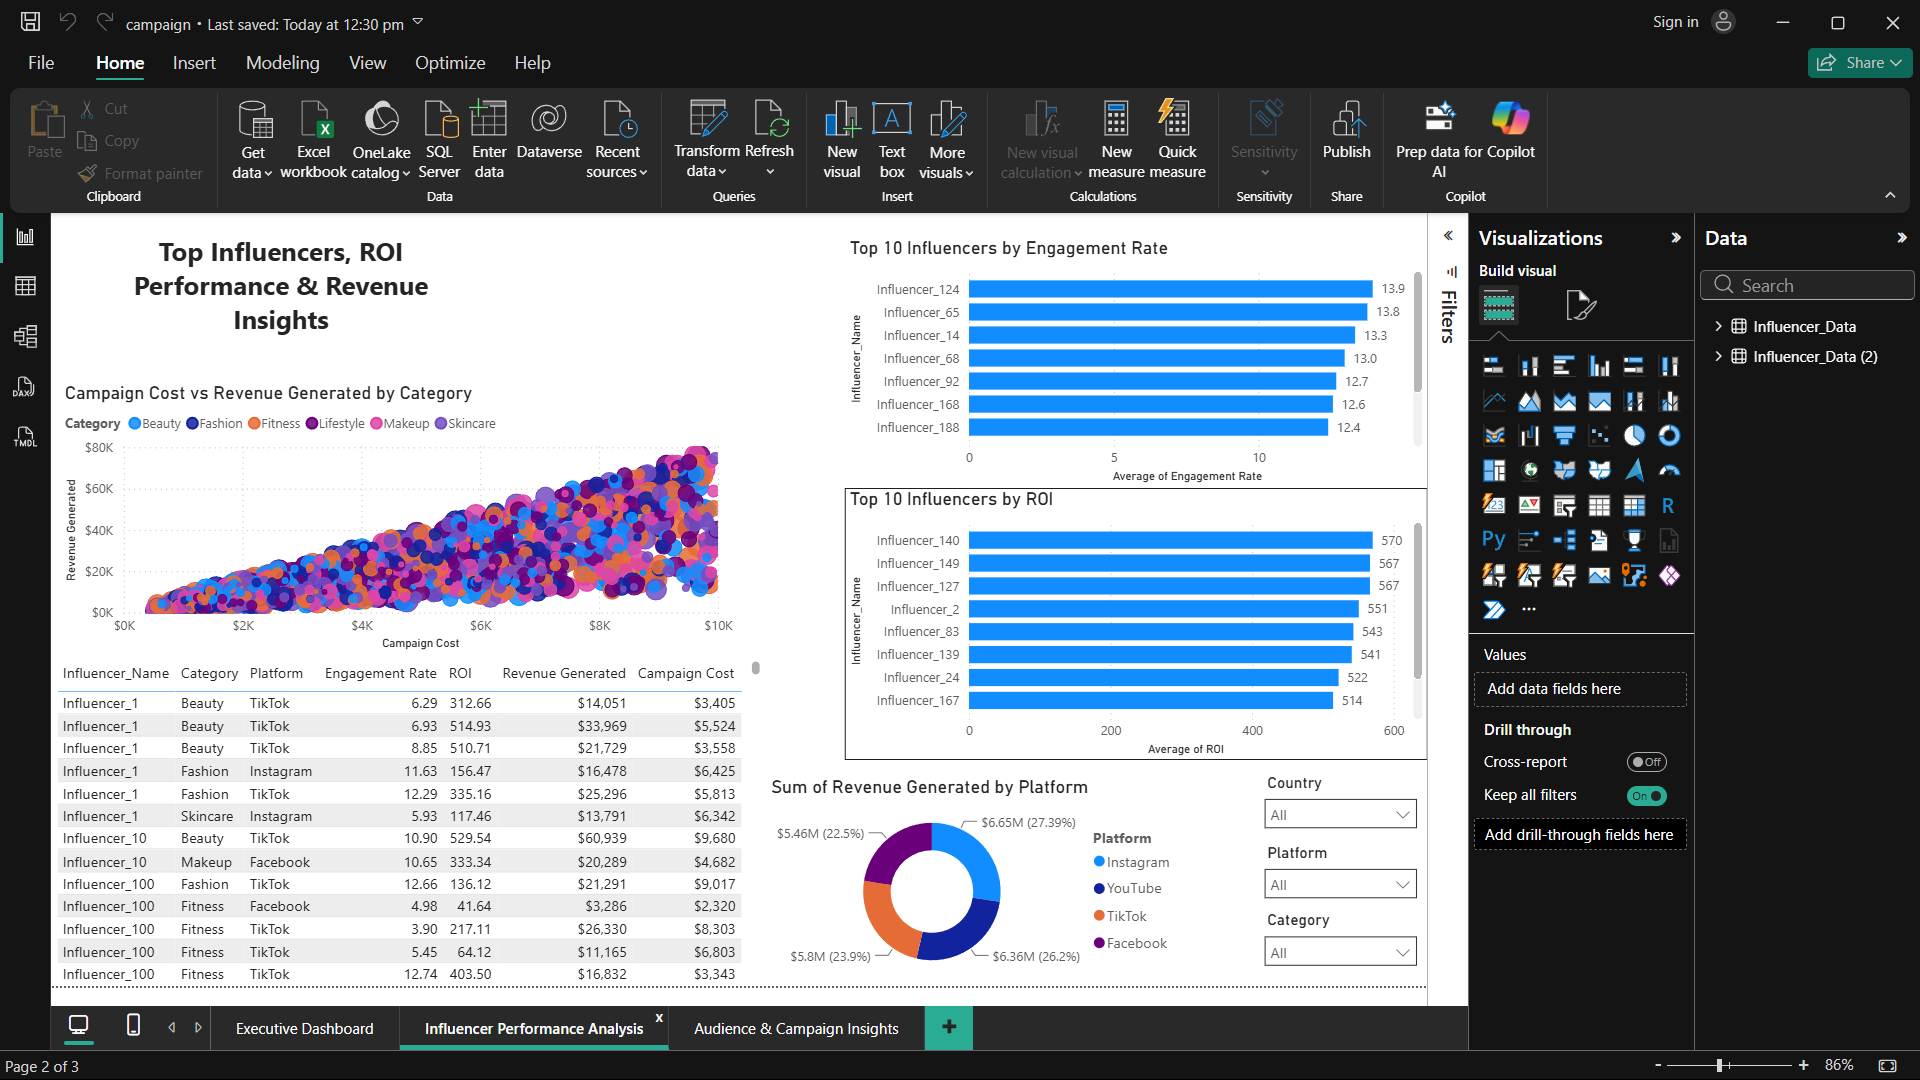

The dashboard page shown, as its layout file describes it:
{"tool":"powerbi","page":{"name":"Influencer Performance Analysis","canvas":[1280,720],"ordinal":1},"visuals":[{"type":"scatterChart","title":"Campaign Cost vs Revenue Generated by Category","fields":{"X":["Influencer_Data.Campaign Cost"],"Y":["Influencer_Data.Revenue Generated"],"Size":["Avg(Influencer_Data.Followers)"],"Series":["Influencer_Data.Category"]},"box":[8.1,157,631.4,254.7],"z":0},{"type":"clusteredBarChart","title":"Top 10 Influencers by ROI","fields":{"Category":["Influencer_Data.Influencer_Name"],"Y":["Avg(Influencer_Data.ROI)"]},"box":[738,255.5,542.3,254.2],"z":1000},{"type":"clusteredBarChart","title":"Top 10 Influencers by Engagement Rate","fields":{"Category":["Influencer_Data.Influencer_Name"],"Y":["Avg(Influencer_Data.Engagement Rate)"]},"box":[738,21.7,542.3,233.8],"z":2000},{"type":"tableEx","fields":{"Values":["Influencer_Data.Influencer_Name","Influencer_Data.Category","Influencer_Data.Platform","Influencer_Data.Engagement Rate","Influencer_Data.ROI","Influencer_Data.Revenue Generated","Influencer_Data.Campaign Cost"]},"box":[0,411.6,665.1,308.1],"z":3000},{"type":"slicer","fields":{"Values":["Influencer_Data.Category"]},"box":[1118.5,644.2,161.7,76.1],"z":4000},{"type":"slicer","fields":{"Values":["Influencer_Data.Platform"]},"box":[1118.5,581.7,161.7,62.5],"z":5000},{"type":"slicer","title":"Filter by Country","fields":{"Values":["Influencer_Data.Country"]},"box":[1118.5,516.5,161.7,69.3],"z":6000},{"type":"donutChart","fields":{"Category":["Influencer_Data.Platform"],"Y":["Sum(Influencer_Data.Revenue Generated)"]},"box":[664.6,523.3,390.1,197.1],"z":7000},{"type":"textbox","box":[27.9,14,372.1,124.4],"z":8000}]}

Visuals, with their boxes on the page's 1280x720 design canvas (x1, y1, x2, y2). These are canvas units, not pixel positions in the 1920x1080 screenshot, which may show the page scaled, cropped or inside an application window:
"Campaign Cost vs Revenue Generated by Category" scatterChart: {"left": 8, "top": 157, "right": 640, "bottom": 412}
"Top 10 Influencers by ROI" clusteredBarChart: {"left": 738, "top": 256, "right": 1280, "bottom": 510}
"Top 10 Influencers by Engagement Rate" clusteredBarChart: {"left": 738, "top": 22, "right": 1280, "bottom": 256}
tableEx - Influencer_Data.Influencer_Name x Influencer_Data.Category: {"left": 0, "top": 412, "right": 665, "bottom": 720}
slicer - Influencer_Data.Category: {"left": 1118, "top": 644, "right": 1280, "bottom": 720}
slicer - Influencer_Data.Platform: {"left": 1118, "top": 582, "right": 1280, "bottom": 644}
"Filter by Country" slicer: {"left": 1118, "top": 516, "right": 1280, "bottom": 586}
donutChart - Influencer_Data.Platform x Sum(Influencer_Data.Revenue Generated): {"left": 665, "top": 523, "right": 1055, "bottom": 720}
textbox: {"left": 28, "top": 14, "right": 400, "bottom": 138}
